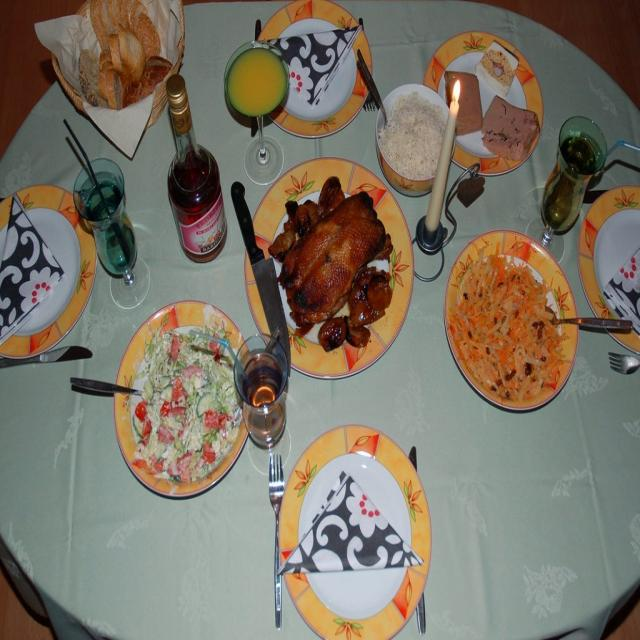non-organic waste: (437, 207, 587, 430), (290, 428, 427, 640), (107, 312, 252, 492)
